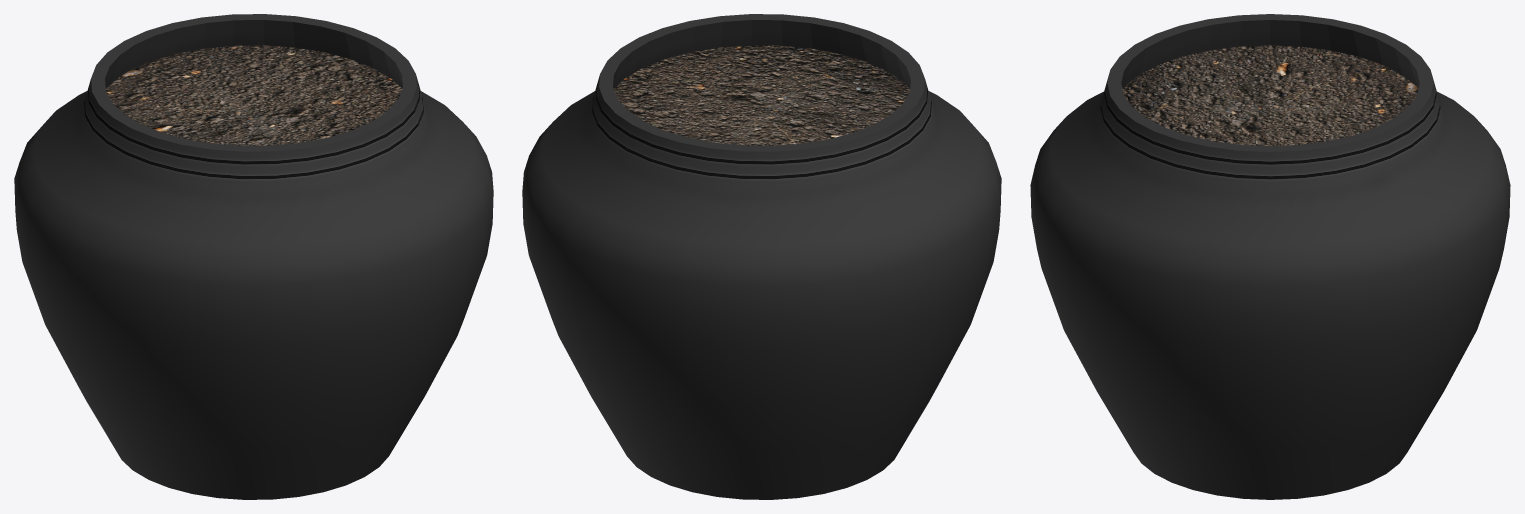
The model's file is plant pot1.FBX.
3 views of the same model, side by side, from view 1: azimuth 30°, elevation 25°; view 2: azimuth 150°, elevation 25°; view 3: azimuth 270°, elevation 25° (orthographic).
Parts seen in each view (by area): view 1: plant pot1; view 2: plant pot1; view 3: plant pot1.
Part boxes in pixels (x1,y1,x2,y2): plant pot1: [14, 14, 493, 499]; plant pot1: [522, 14, 1001, 499]; plant pot1: [1030, 14, 1510, 499].
Size of the model in its own units: 12.66 by 12.66 by 10.42.
Materials: 1 (1 with a texture image).
